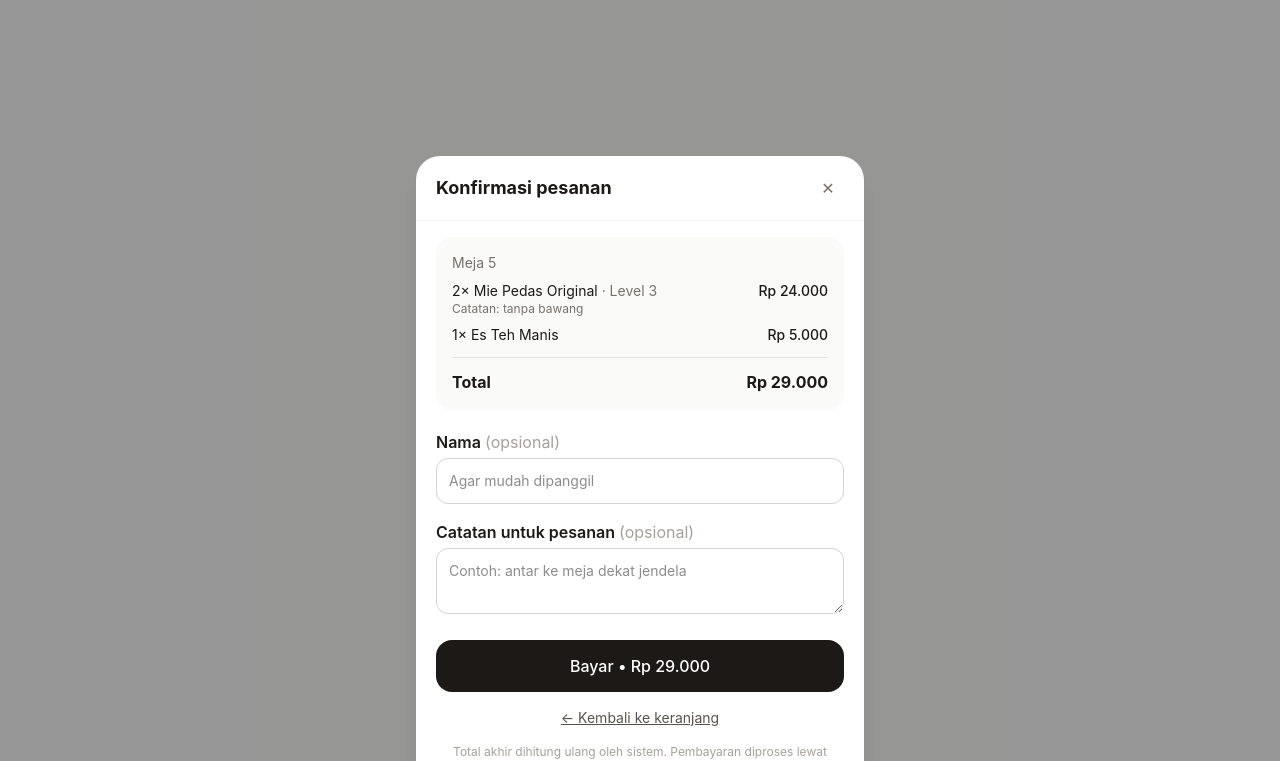
it: CheckoutSheet › menyebut semua menu yang ditolak
What coordinates should you click on to do the following:
click the button "Bayar • Rp 29.000"
I would click on:
 (640, 666)
Its box is [436, 640, 844, 692].
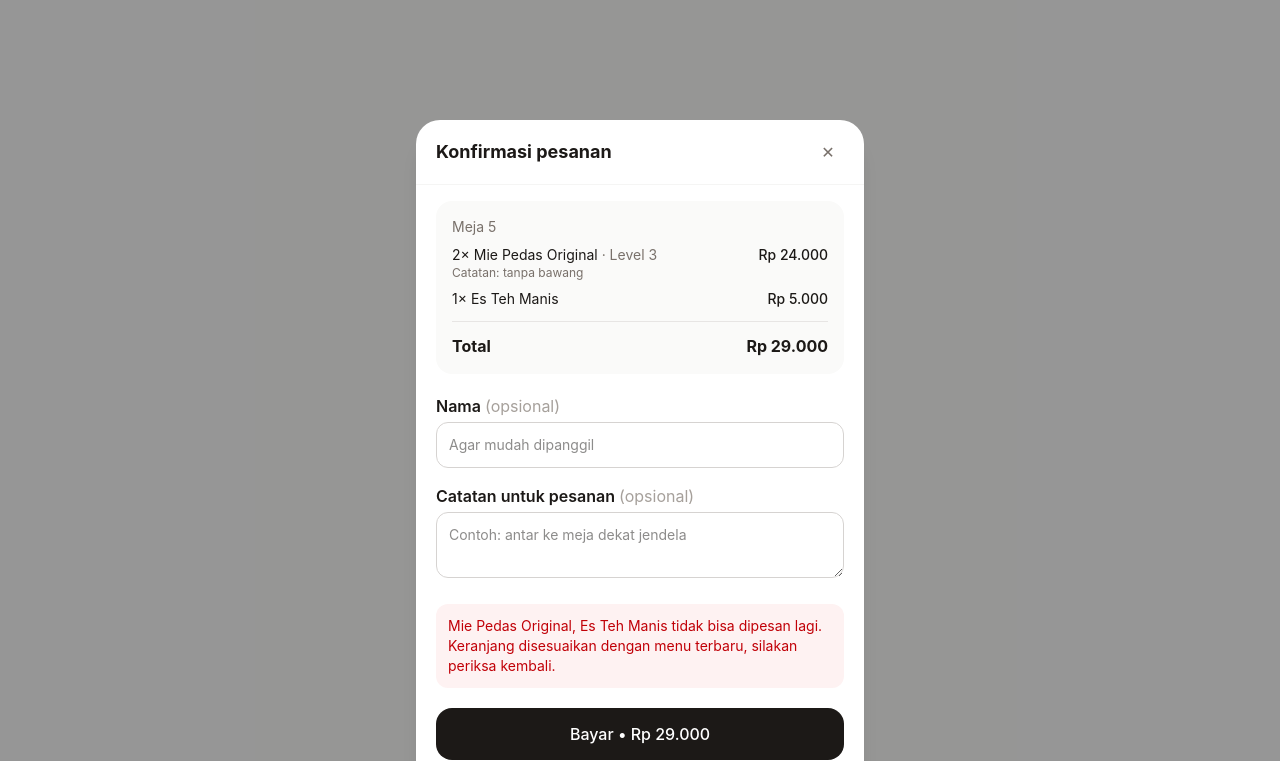
Expected: the message shows "Mie Pedas Original, Es Teh Manis tidak bisa dipesan lagi", [448, 617, 822, 674]
